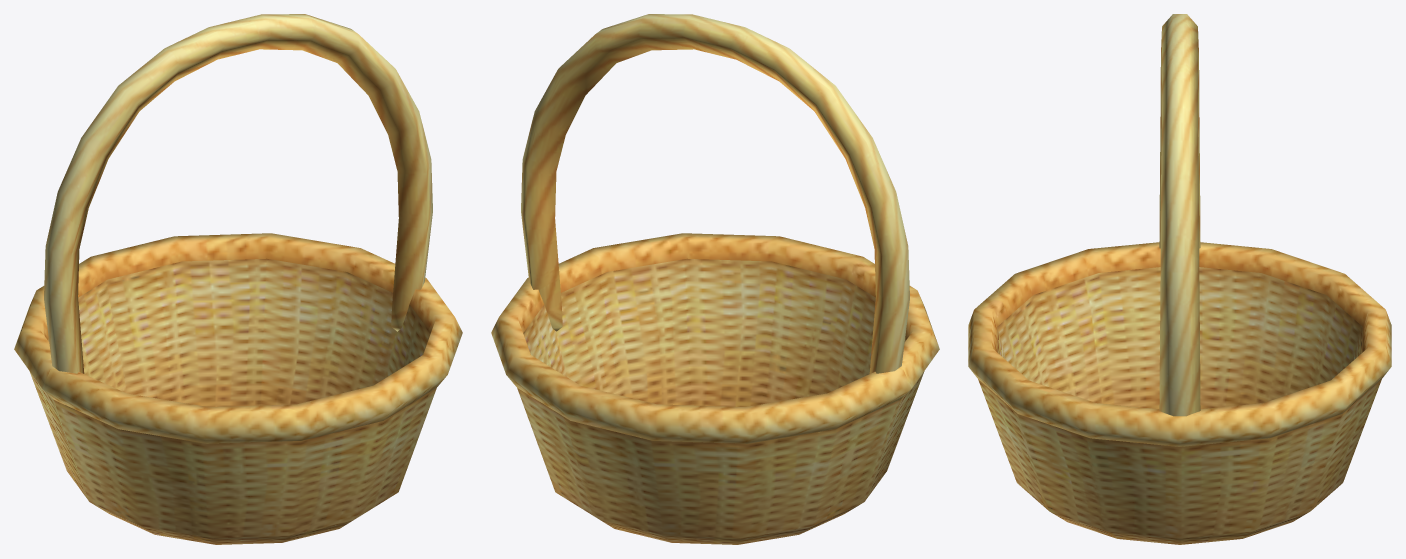
Rendered from Basket_01.fbx.
The picture shows the model from 3 angles, left to right: view 1: azimuth 30°, elevation 25°; view 2: azimuth 150°, elevation 25°; view 3: azimuth 270°, elevation 25°; orthographic projection. The views are drawn at different scales.
Visible parts, largest first — view 1: Basket_01_Clone_; view 2: Basket_01_Clone_; view 3: Basket_01_Clone_.
Part boxes in pixels (left/top/right/bottom): Basket_01_Clone_: left=14, top=14, right=462, bottom=544; Basket_01_Clone_: left=491, top=14, right=939, bottom=544; Basket_01_Clone_: left=968, top=14, right=1391, bottom=544.
Size of the model in its own units: 520 by 582 by 500.
Materials: 1 (1 with a texture image).
